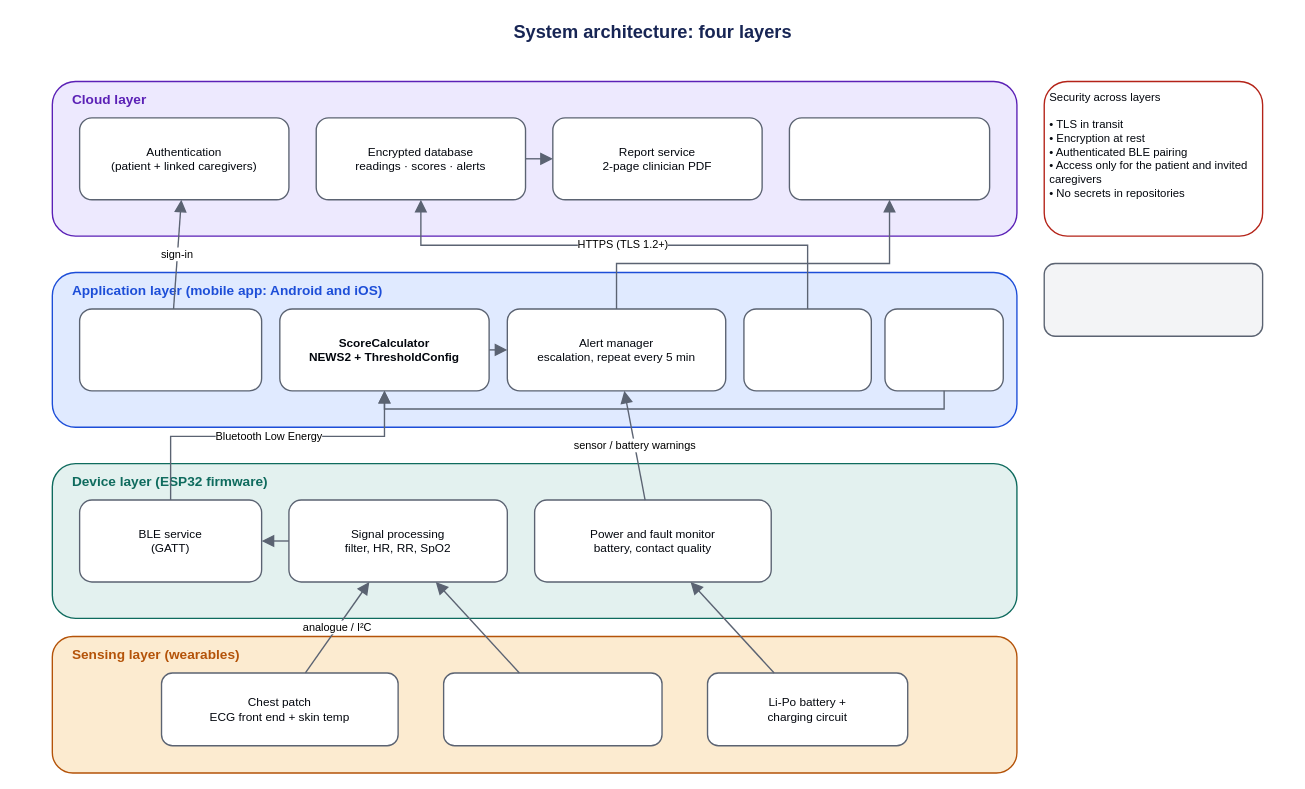
Some shapes in this 1305 by 789 pixel diagram are drawn without their labels. Each missing label, with the centre of its shape:
Finger clip PPG (red + infrared): the point at 552,709
Manual entry BP + alertness: the point at 944,349
Offline buffer (24 h) and sync: the point at 807,349
Out of scope: no connection to hospital systems: the point at 1153,299
Push and SMS notification service: the point at 889,158
UI: Today, History, Devices, Me: the point at 170,349
